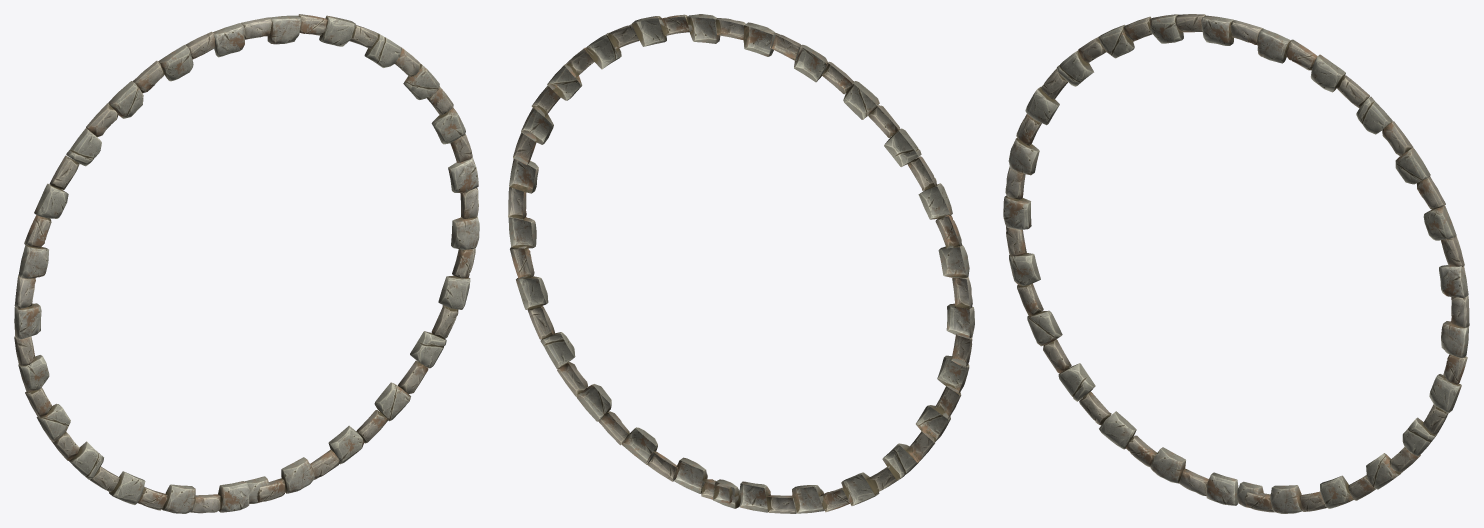
Rendered from HUB_Samael_Brick_Floor_A.fbx.
The picture shows the model from 3 angles, left to right: view 1: azimuth 30°, elevation 25°; view 2: azimuth 150°, elevation 25°; view 3: azimuth 330°, elevation 25°; orthographic projection.
Parts seen in each view (by area): view 1: HUB_Samael_Brick_Floor_A; view 2: HUB_Samael_Brick_Floor_A; view 3: HUB_Samael_Brick_Floor_A.
Boxes of the visible parts, <box> form: HUB_Samael_Brick_Floor_A: <box>14,14,479,513</box>; HUB_Samael_Brick_Floor_A: <box>508,14,974,513</box>; HUB_Samael_Brick_Floor_A: <box>1003,14,1469,513</box>.
Bounding box in the file's own units: 1698 × 1697 × 58.19.
